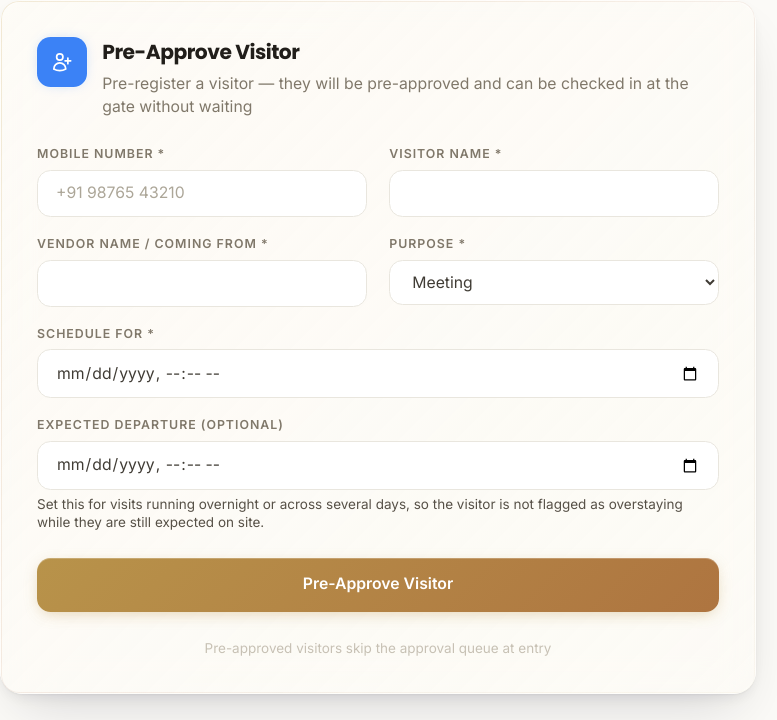
Test case: PreApproveForm phone recall › recallByPhone fills existing visitor data on blur
In the field with placeholder "+91 98765 43210": (202, 193) [37,170,367,217], type "9876543210"
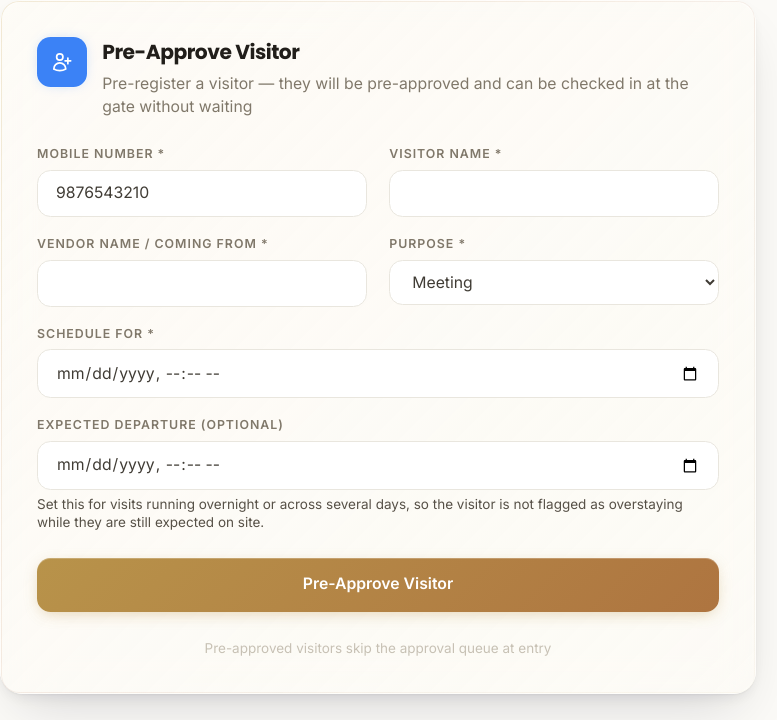
Leave the field below "Mobile Number *", box [37,170,367,217]
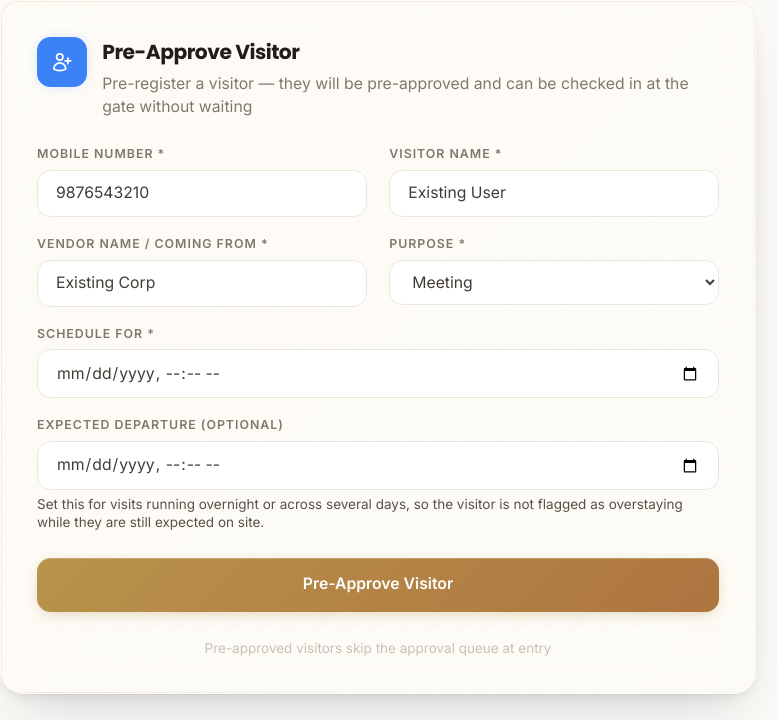
Now the field below "Visitor Name *" holds "Existing User", box [389,170,719,217]
